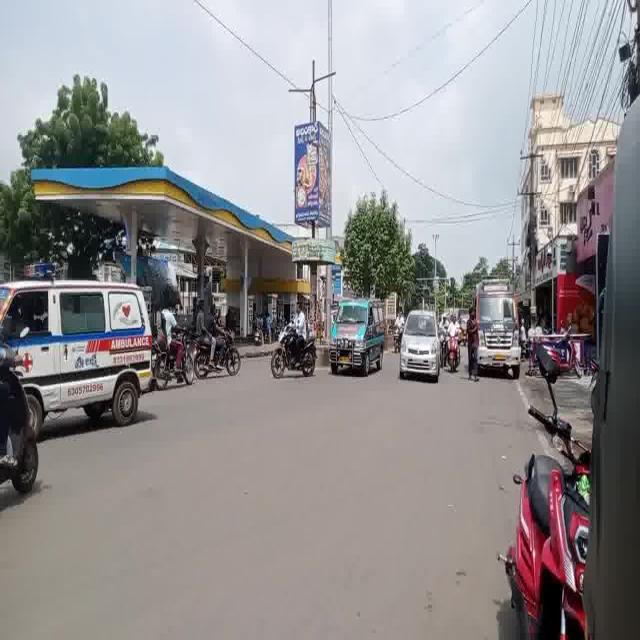ambulance: (0, 265, 162, 446), (330, 285, 392, 395), (471, 263, 525, 380)
